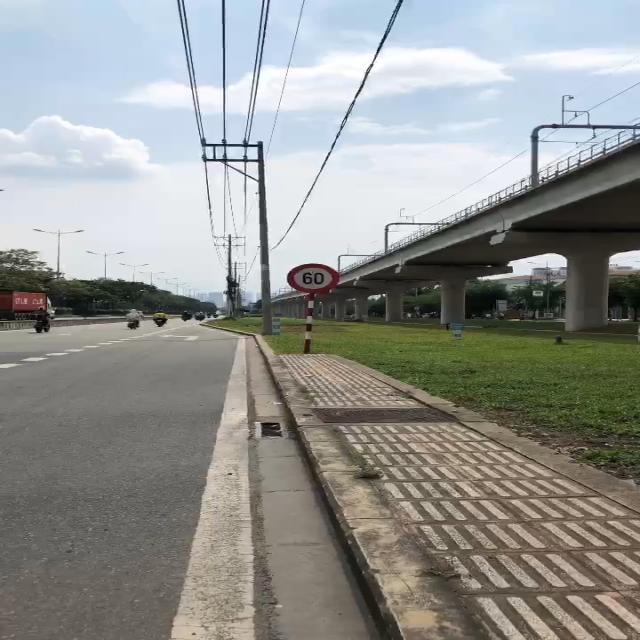Bien bao toc do toi da cho phep: (286, 261, 346, 296)
